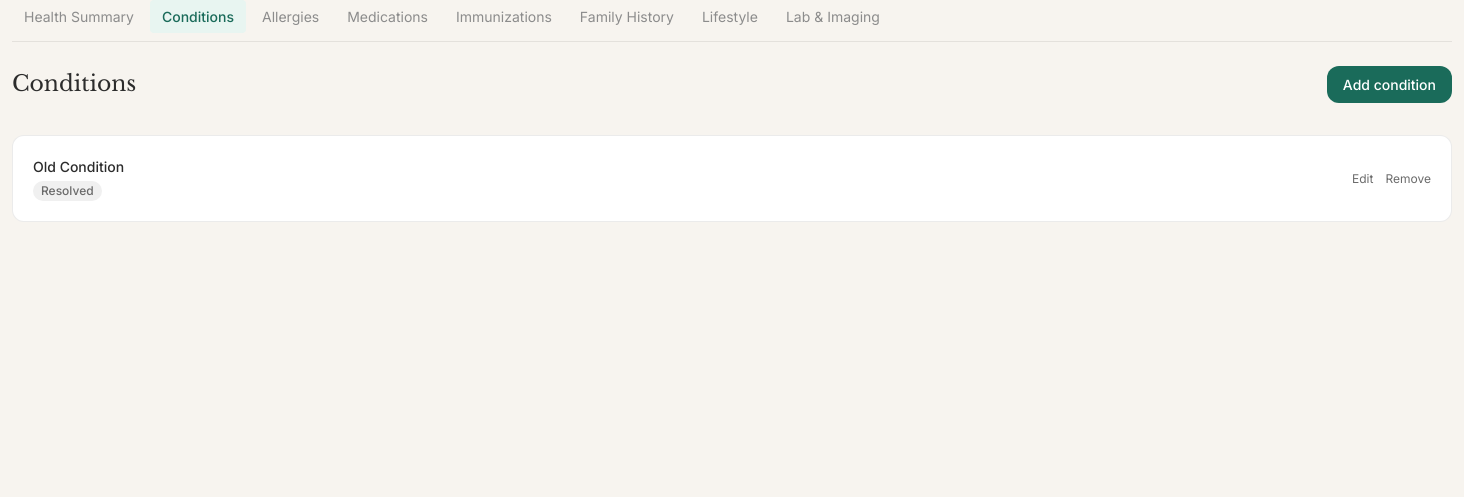
Test: ConditionsPage › shows confirm dialog before delete
Check: the heading "Old Condition" is shown, box [33,158,124,175]
Click the button "Remove" at (1408, 178), box [1386,170,1431,186]
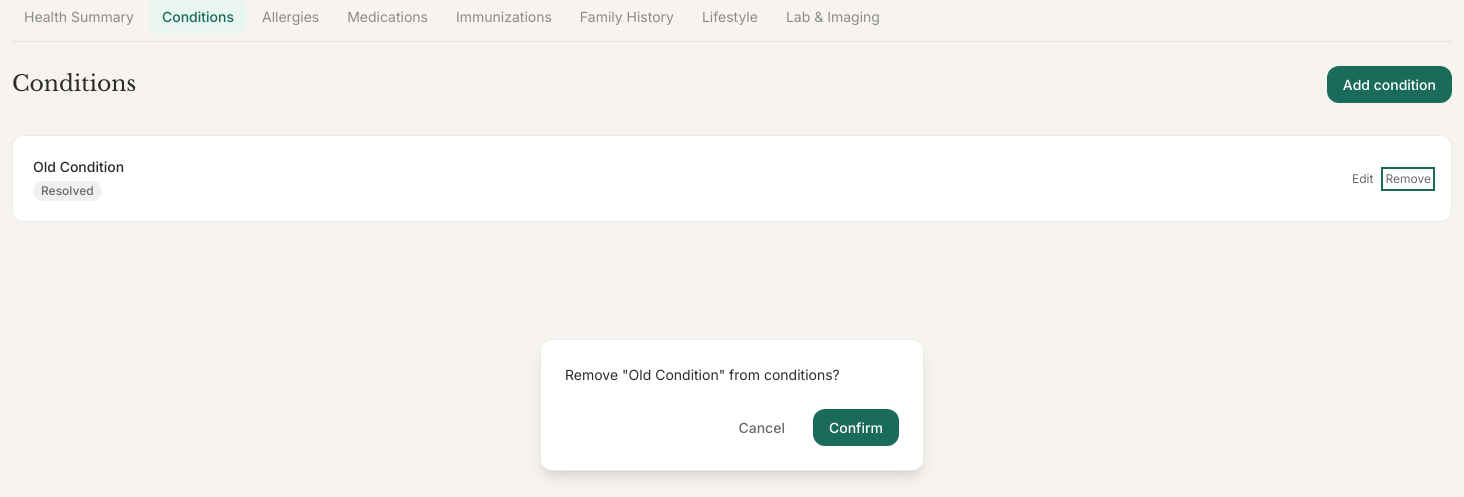
Check: the text "Remove \"Old Condition\" from conditions?" is shown, box [565,366,840,383]
Check: the button "Confirm" is shown, box [813,409,899,446]
